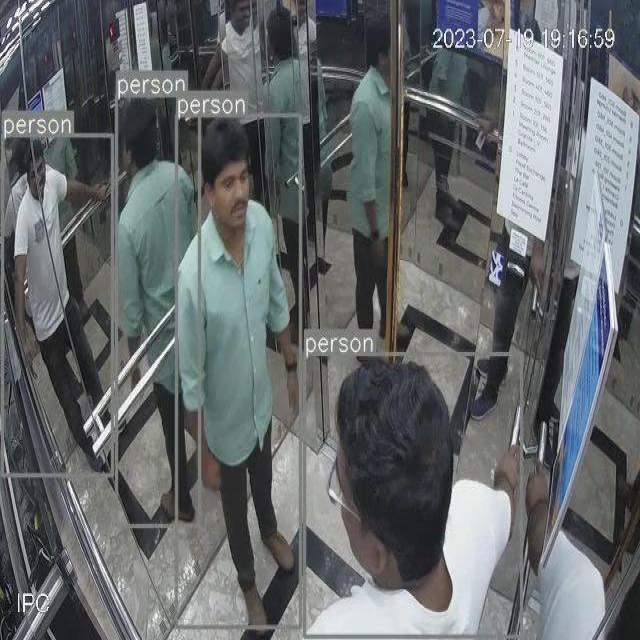person: (176, 114, 302, 626), (307, 354, 521, 638), (117, 92, 200, 529), (9, 136, 113, 473), (345, 17, 395, 364)
